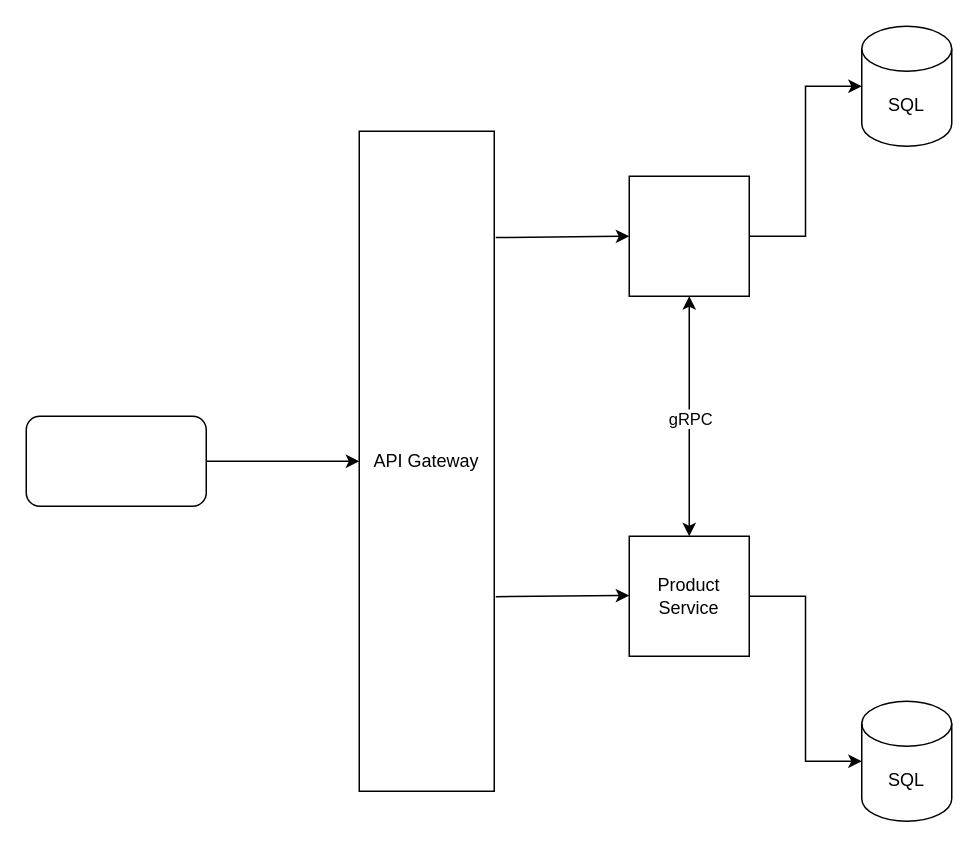
Some shapes in this 978 by 848 pixel diagram are drawn without their labels. Here are the shapes that lost their labels. From the top down, the centre of each, then its label:
pixel 688 235: User Service
pixel 115 460: Client
